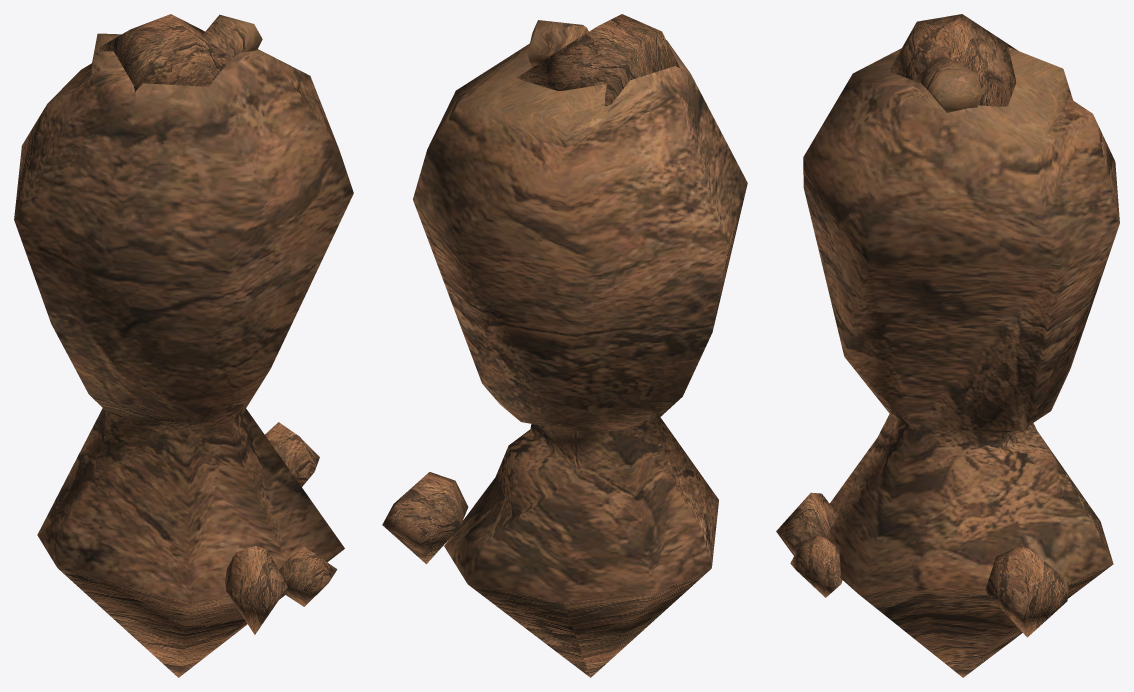
Rendered from rock_tatt_mushroom_a1_l3.fbx.
The picture shows the model from 3 angles, left to right: view 1: azimuth 30°, elevation 25°; view 2: azimuth 150°, elevation 25°; view 3: azimuth 270°, elevation 25°; orthographic projection. The views are drawn at different scales.
Visible parts, largest first — view 1: mesh_node; view 2: mesh_node; view 3: mesh_node.
Boxes of the visible parts, left/top/right/bottom form: mesh_node: left=14, top=14, right=353, bottom=677; mesh_node: left=382, top=14, right=747, bottom=677; mesh_node: left=776, top=14, right=1119, bottom=677.
Bounding box in the file's own units: 32.09 × 63.26 × 30.51.
Materials: 1 (1 with a texture image).
